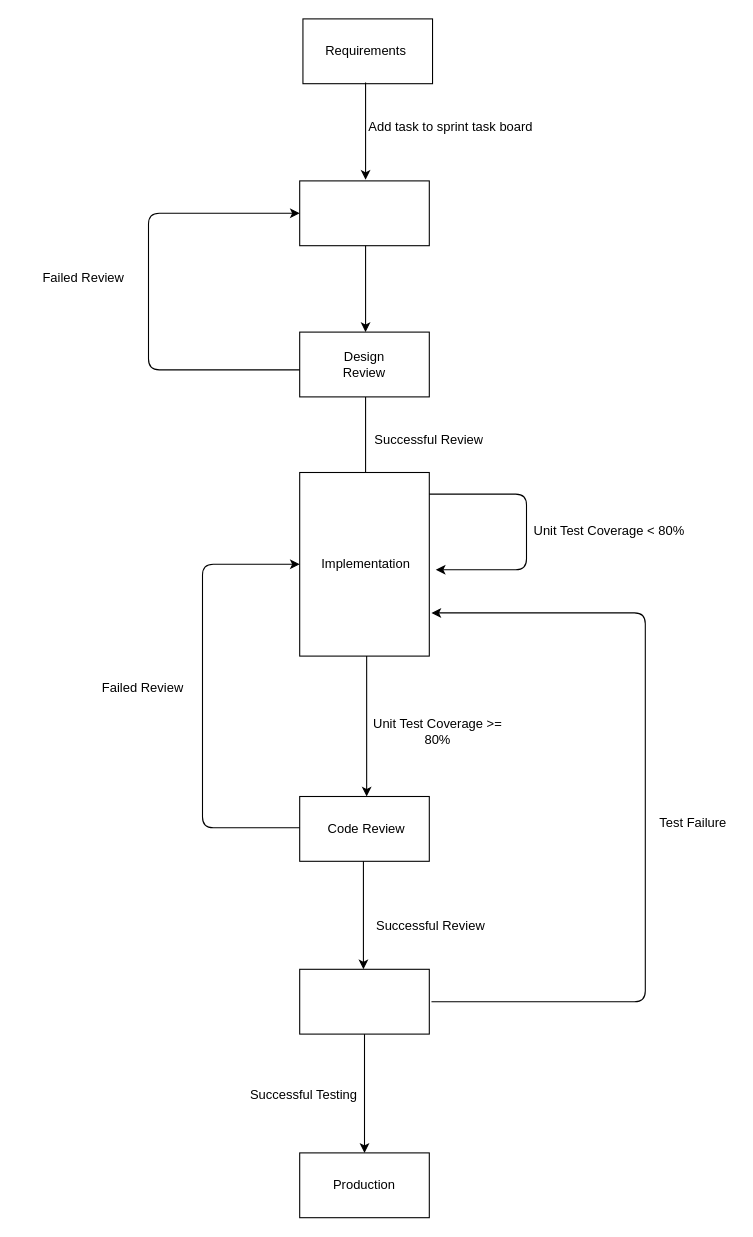
Image size: 753x1237. Some labels were removed from this diagram. Each missing label, with the centre of its shape:
"Design" goes at (364,213).
"QA Testing Phase" goes at (364,1001).
